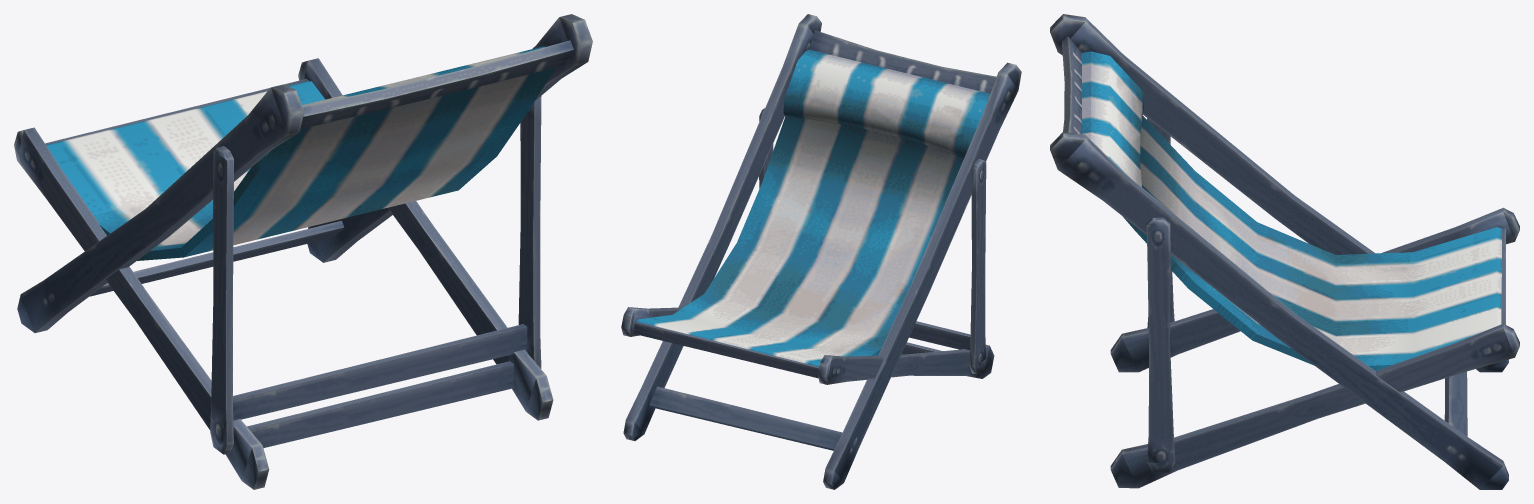
Rendered from hbxz_wj027_01.FBX.
3 renders of one model, left to right at view 1: azimuth 30°, elevation 25°; view 2: azimuth 150°, elevation 25°; view 3: azimuth 270°, elevation 25°, orthographic. The views are drawn at different scales.
Visible parts, largest first — view 1: hbxz_wj027_01; view 2: hbxz_wj027_01; view 3: hbxz_wj027_01.
Part boxes in pixels (x1,y1,x2,y2): hbxz_wj027_01: (14, 14, 592, 489); hbxz_wj027_01: (621, 14, 1021, 489); hbxz_wj027_01: (1050, 14, 1519, 489).
Bounding box in the file's own units: 97.99 × 126 × 152.
Materials: 1 (1 with a texture image).
